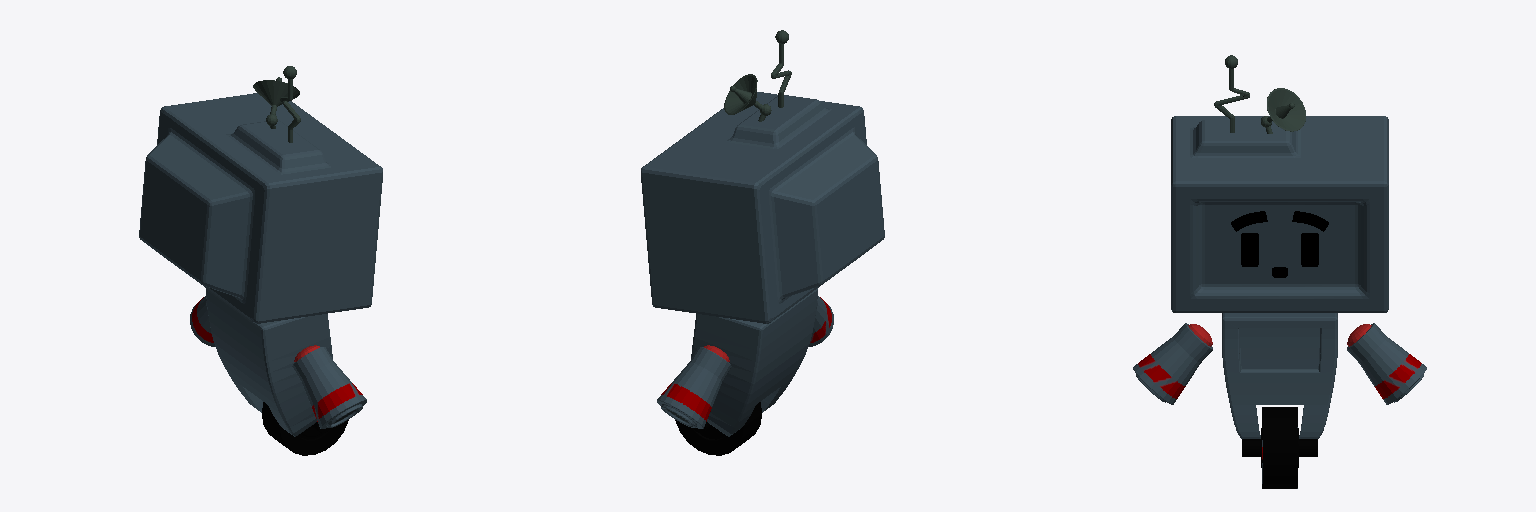
The picture shows the model from 3 angles: view 1: azimuth 30°, elevation 25°; view 2: azimuth 150°, elevation 25°; view 3: azimuth 270°, elevation 25°; orthographic projection.
Visible parts, largest first — view 1: Robot; view 2: Robot; view 3: Robot.
Part boxes in pixels (bbox=[...]): Robot: bbox=[139, 66, 382, 455]; Robot: bbox=[641, 30, 884, 455]; Robot: bbox=[1133, 55, 1426, 488].
Bounding box in the file's own units: 5.68 × 12.97 × 8.44.
Materials: 1 (1 with a texture image).